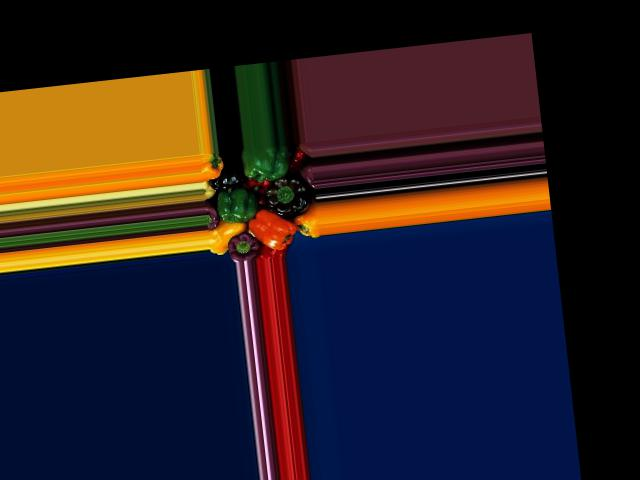bell_pepper: (242, 143, 293, 179)
